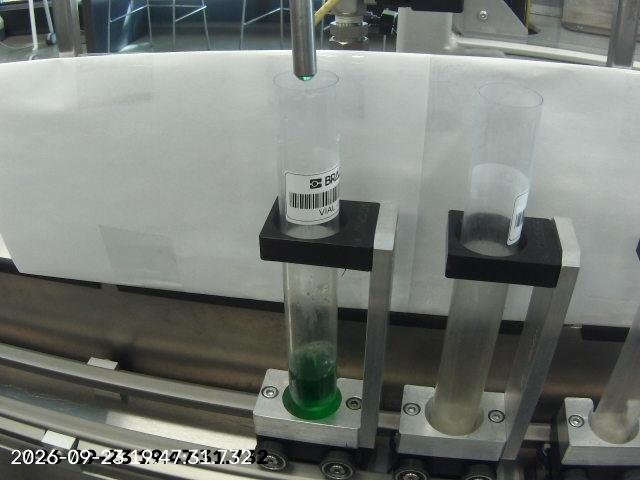vial: (419, 78, 545, 476), (257, 58, 357, 425), (287, 343, 341, 413)
